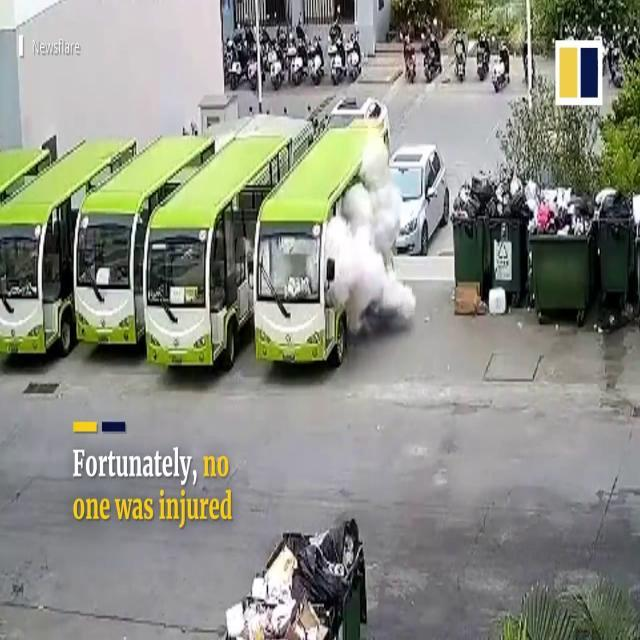Smoke: (326, 172, 412, 333)
